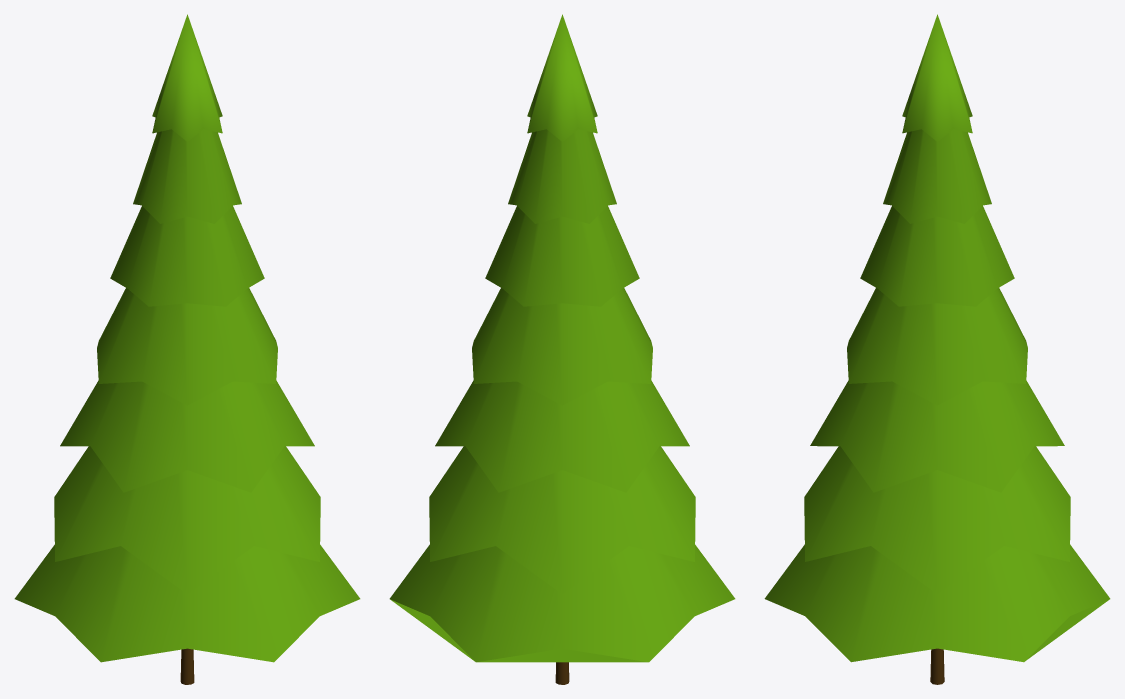
Rendered from SpruceMK2.fbx.
3 views of the same model, side by side, from view 1: azimuth 30°, elevation 25°; view 2: azimuth 150°, elevation 25°; view 3: azimuth 270°, elevation 25° (orthographic).
Visible parts, largest first — view 1: SpruceMK2; view 2: SpruceMK2; view 3: SpruceMK2.
Part boxes in pixels (box(x1,y1,x2,y2)): SpruceMK2: box(14, 14, 360, 684); SpruceMK2: box(389, 14, 735, 684); SpruceMK2: box(764, 14, 1110, 684).
Size of the model in its own units: 1256 by 3027 by 1421.
